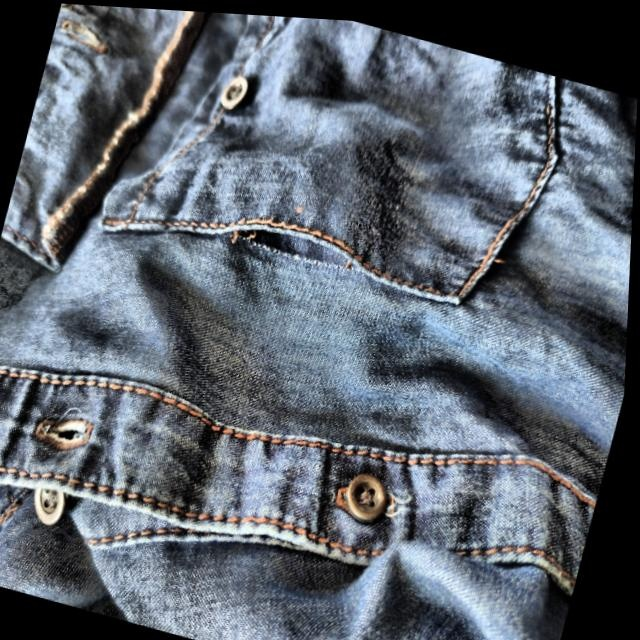seam: (205, 177, 384, 305)
